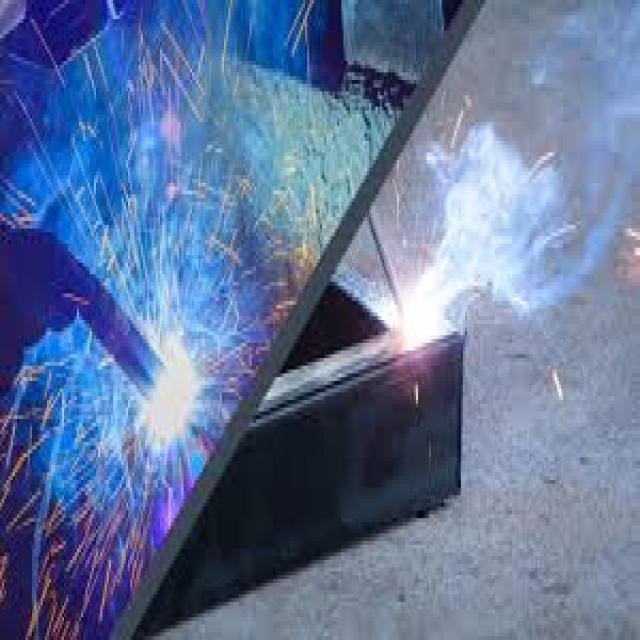welding: (145, 339, 198, 442), (403, 284, 444, 346)
